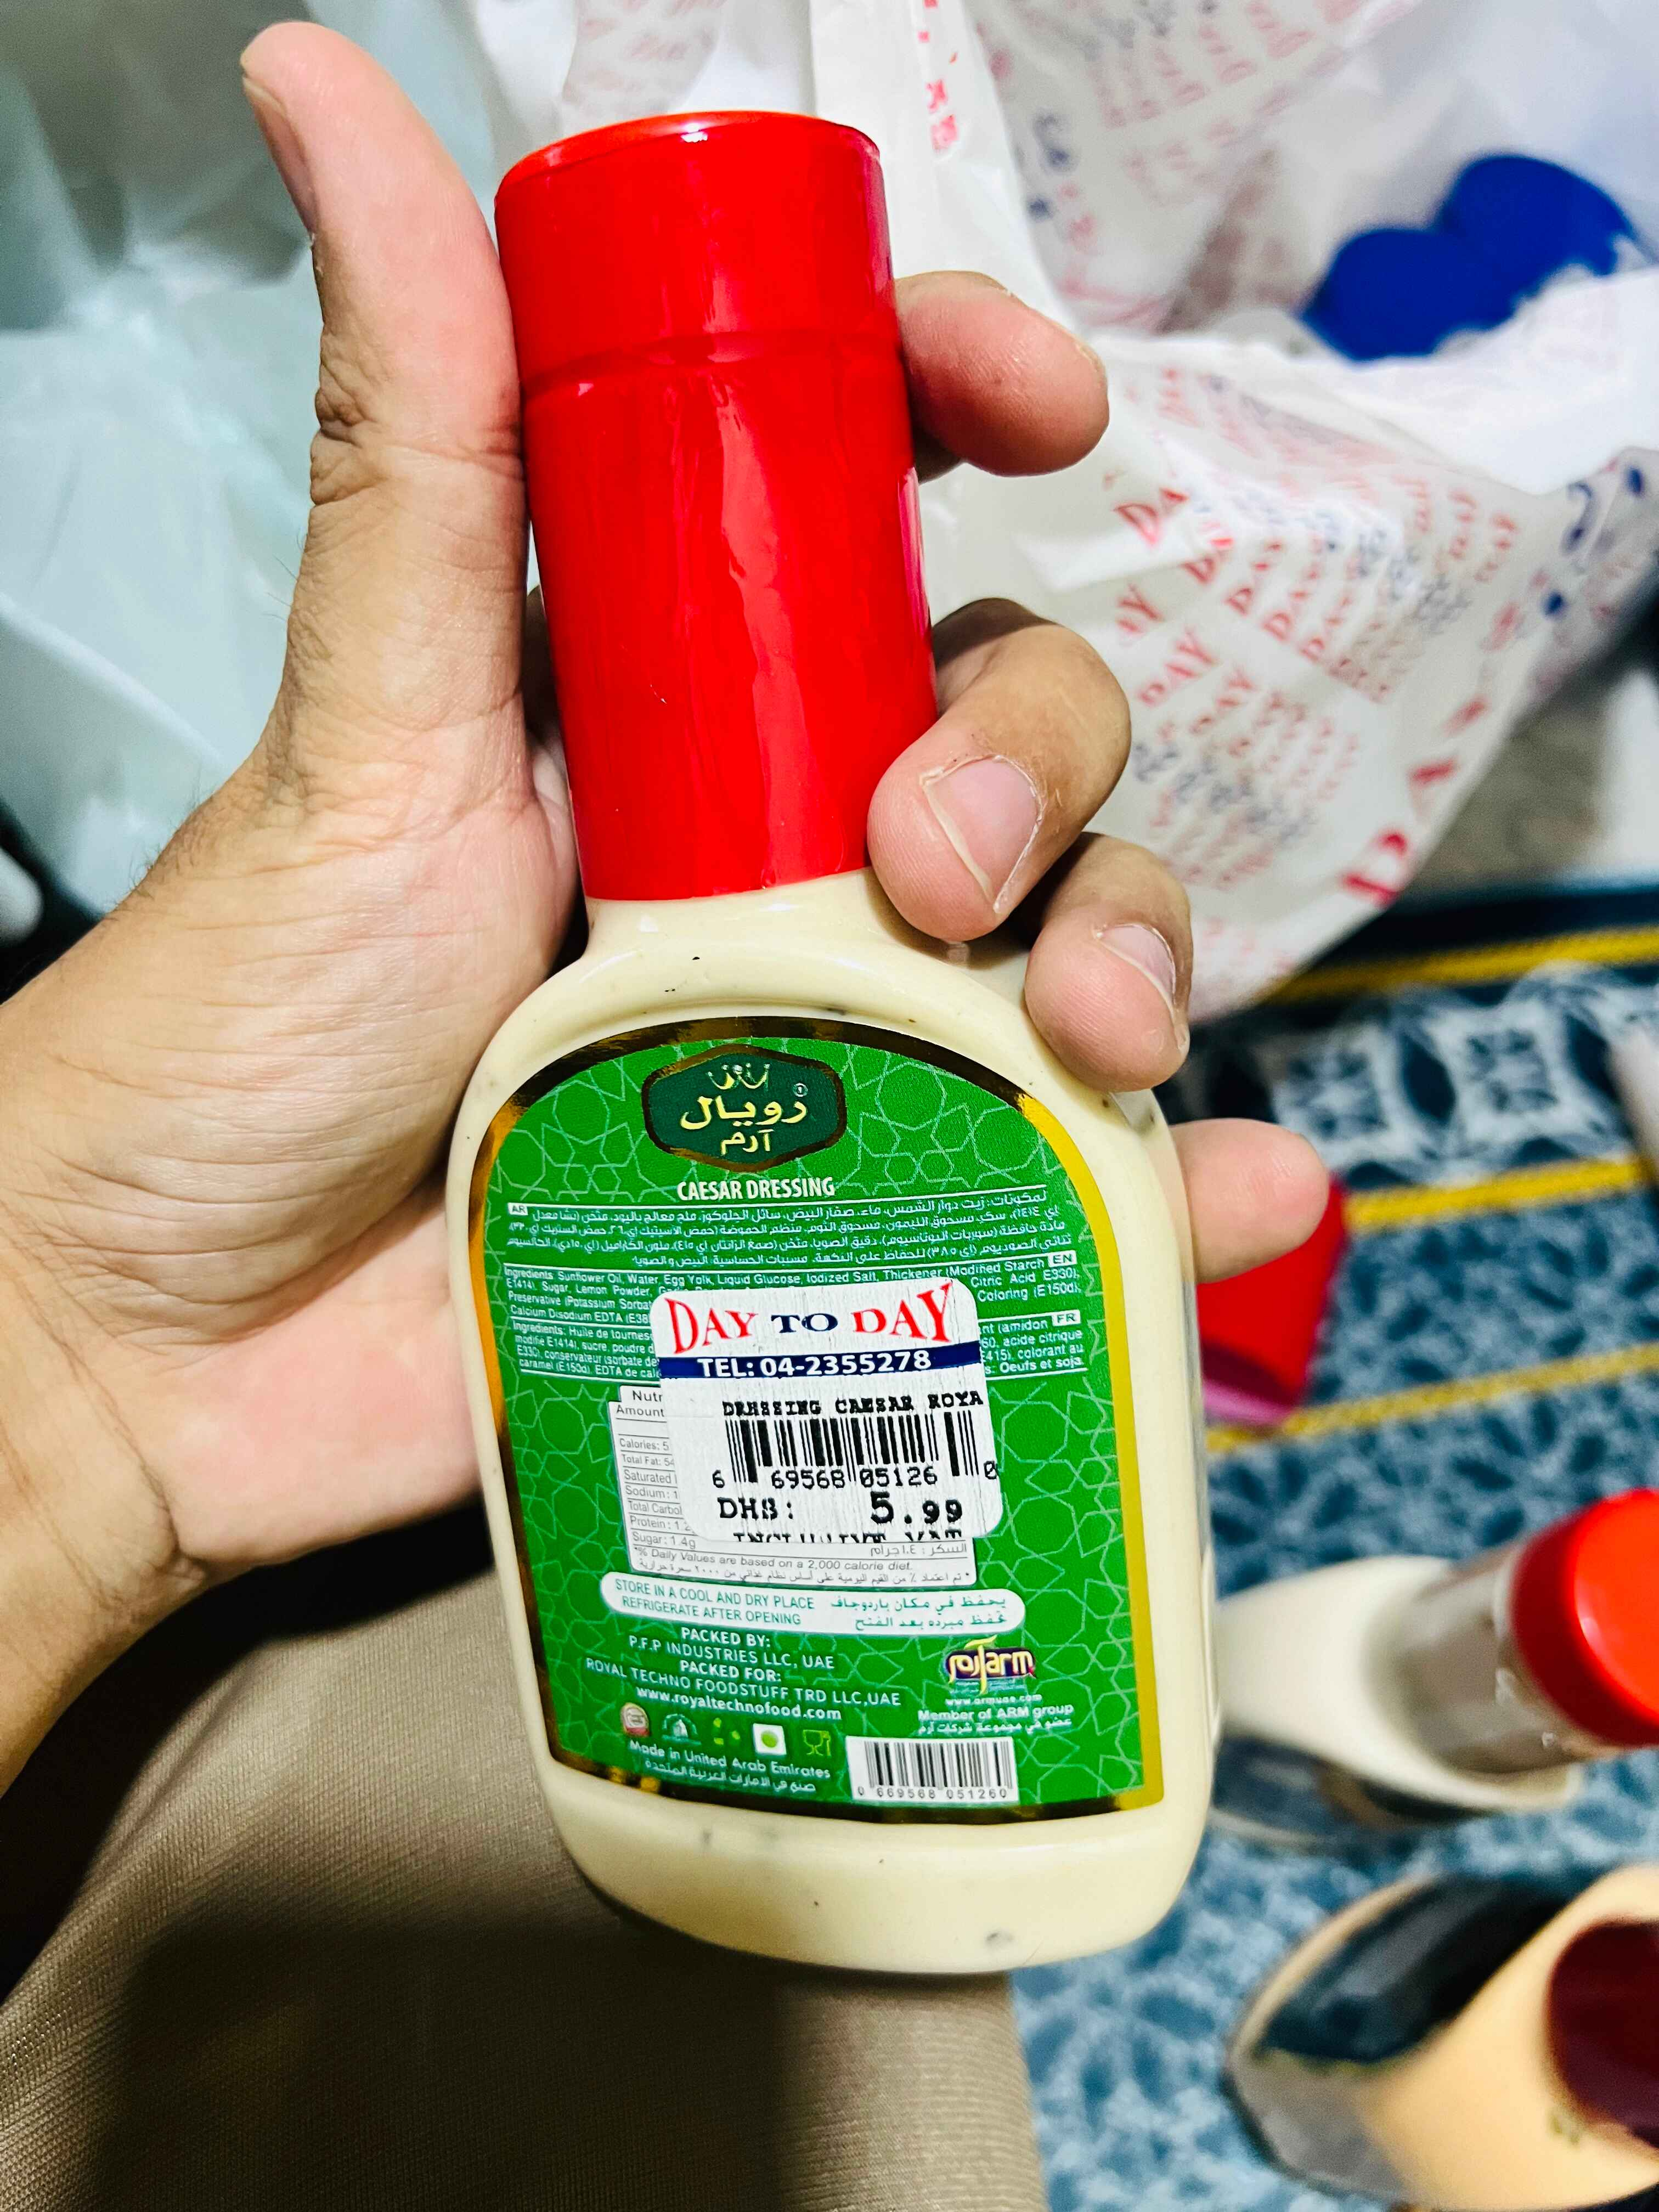PriceTagBig: (653, 1277, 1009, 1576)
